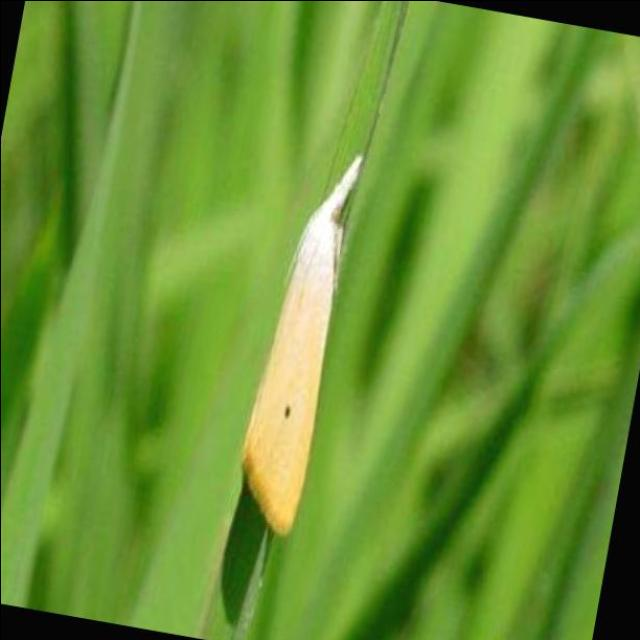stem borer: (242, 158, 358, 534)
